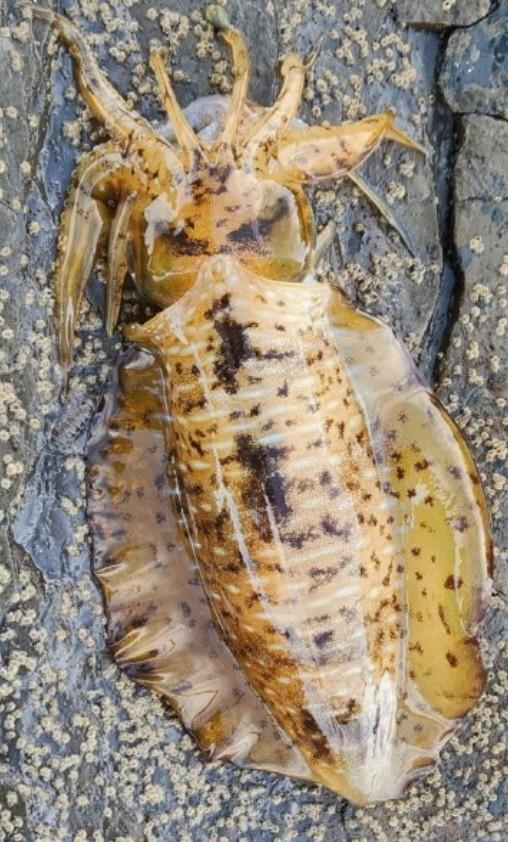Cephalopod: (34, 7, 492, 803)
